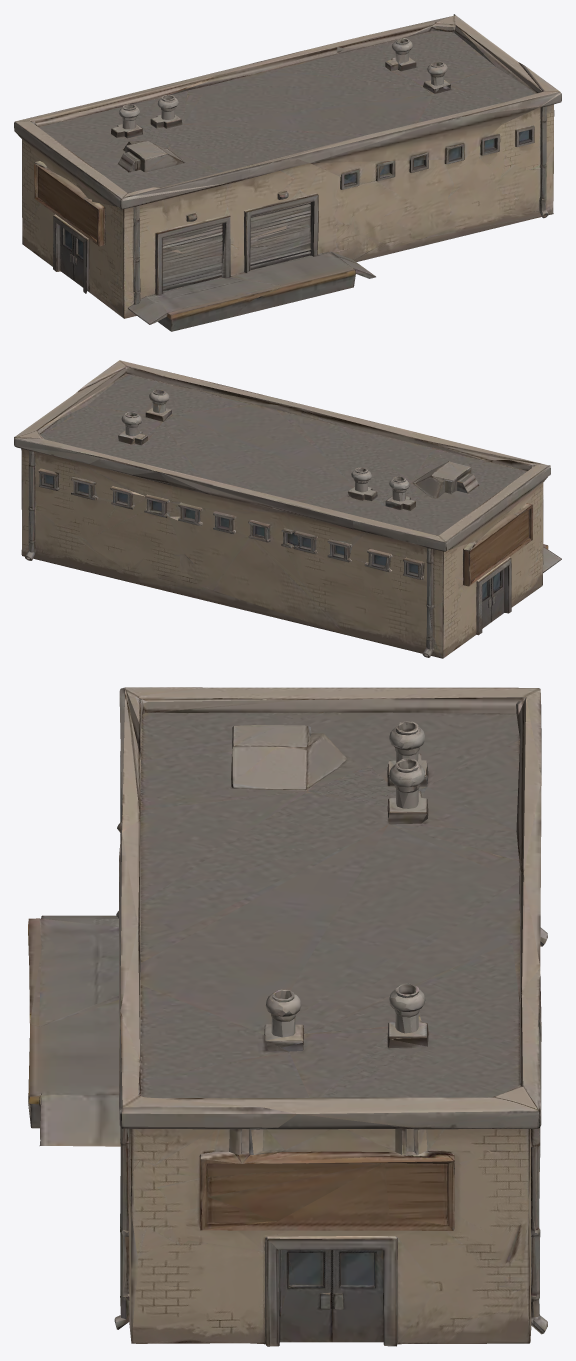
File: laundry.glb
3 views of the same model, one above another, from view 1: azimuth 30°, elevation 25°; view 2: azimuth 150°, elevation 25°; view 3: azimuth 270°, elevation 25° (orthographic). The views are drawn at different scales.
Visible parts, largest first — view 1: placed; view 2: placed; view 3: placed.
Part boxes in pixels (x1,y1,x2,y2): placed: (14,14,561,331); placed: (14,360,561,658); placed: (28,687,547,1346).
Size of the model in its own units: 24 by 7.33 by 12.38.
1 material, 1 textured.
